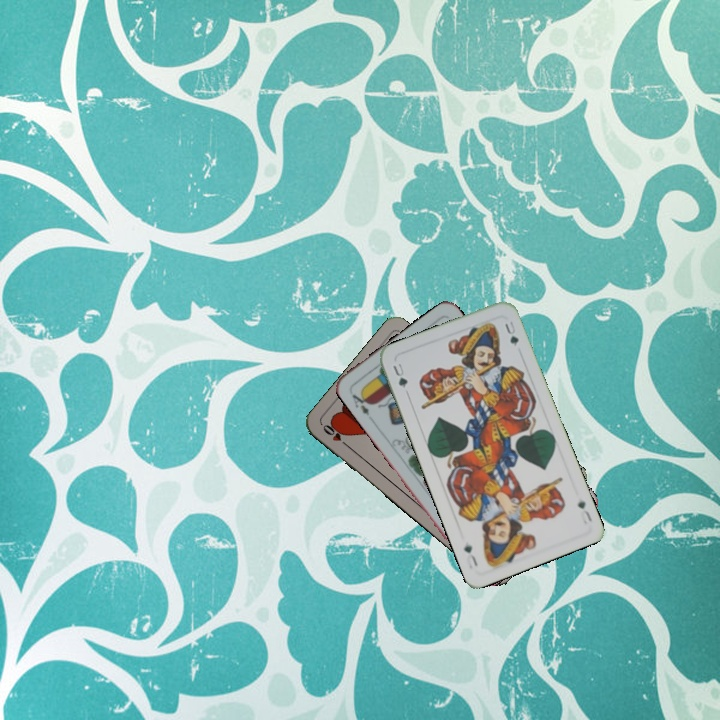EA: (348, 387, 374, 418)
GU: (389, 359, 410, 391), (573, 497, 595, 524)
HO: (318, 420, 353, 451)
